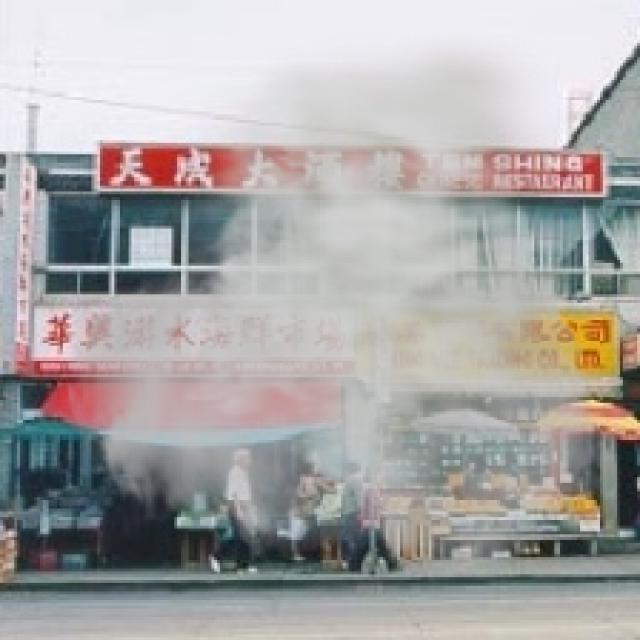Smoke: (60, 34, 614, 580)
